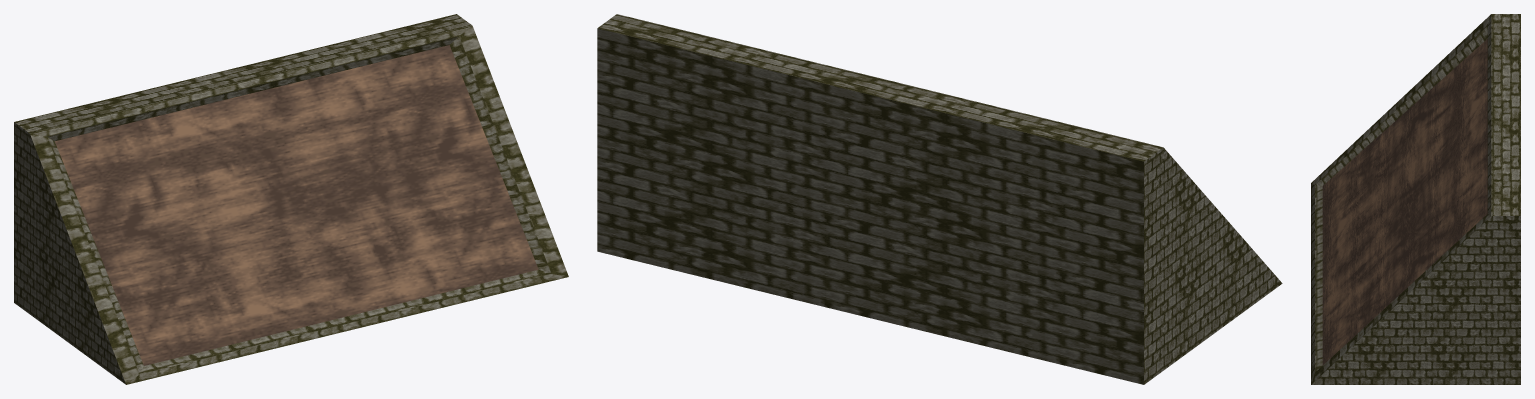
The model's file is instructionsWall.fbx.
3 views of the same model, side by side, from view 1: azimuth 30°, elevation 25°; view 2: azimuth 150°, elevation 25°; view 3: azimuth 270°, elevation 25° (orthographic). The views are drawn at different scales.
Visible parts, largest first — view 1: instructionsWall; view 2: instructionsWall; view 3: instructionsWall.
Part boxes in pixels (x1=…): instructionsWall: x1=14, y1=14, x2=568, y2=384; instructionsWall: x1=597, y1=14, x2=1282, y2=384; instructionsWall: x1=1311, y1=14, x2=1520, y2=384.
Size of the model in its own units: 1405 by 617 by 548.
Materials: 2 (2 with a texture image).
